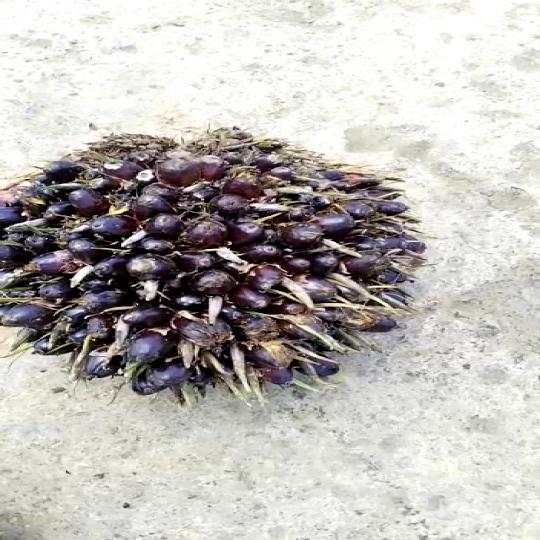mentah: (4, 117, 436, 410)
